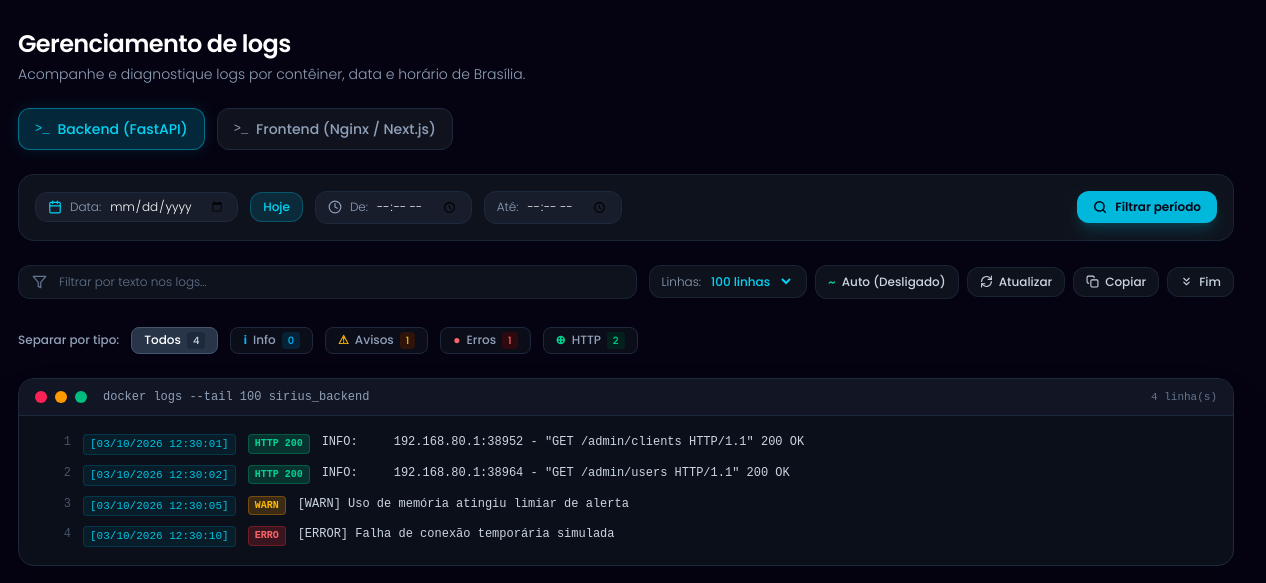
Test: GerenciamentoLogs Component › exibe notificação toast no topo direito ao clicar em copiar logs
Expected: the text "docker logs --tail 100 sirius_backend" is shown, [103,389,370,405]
Click the button with test id "btn-copiar-logs".
click(1116, 282)  # box [1073,267,1159,297]
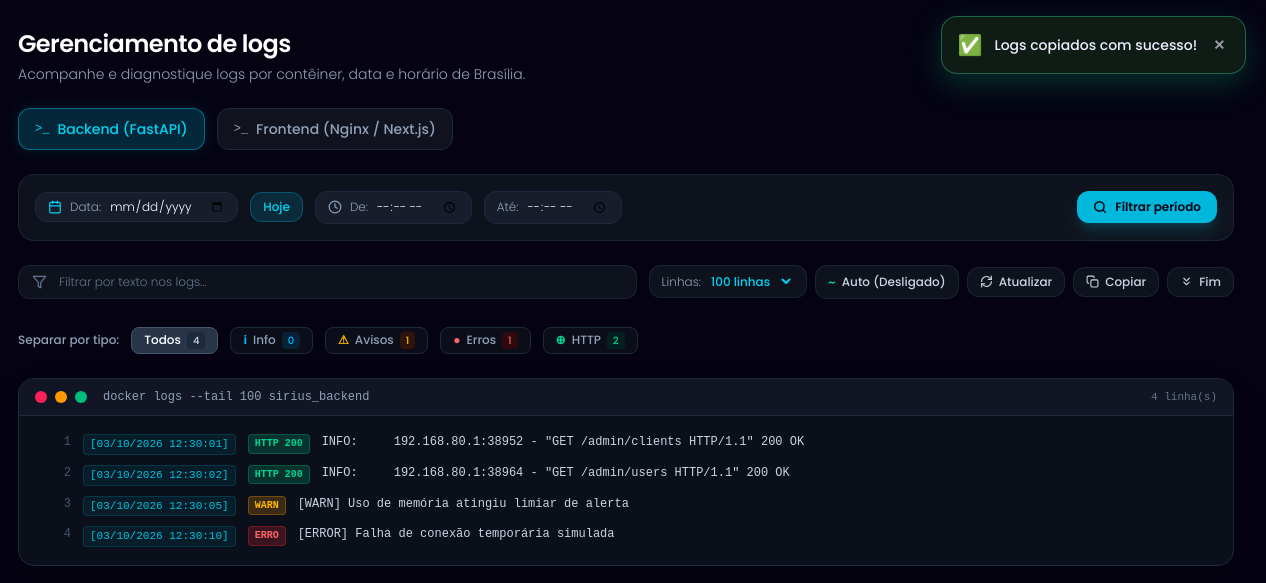
Now the element with test id "toast-notification" is shown, box [940,16,1246,74]
Now the text "Logs copiados com sucesso!" is shown, box [994,35,1197,55]
